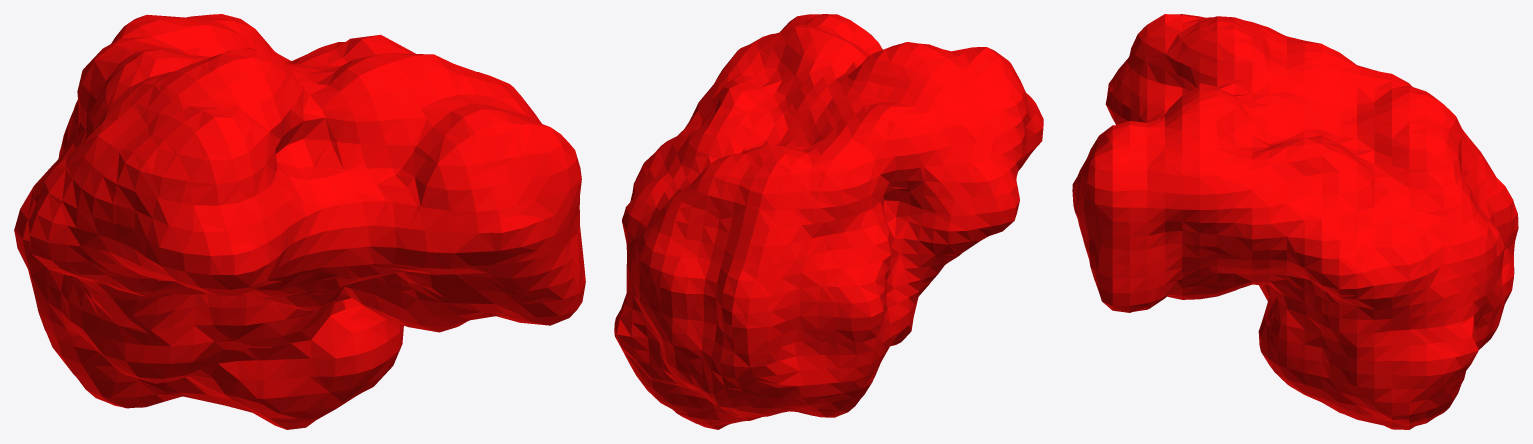
Rendered from fadH_coarse.dae.
3 renders of one model, left to right at view 1: azimuth 30°, elevation 25°; view 2: azimuth 150°, elevation 25°; view 3: azimuth 270°, elevation 25°, orthographic. The views are drawn at different scales.
Parts seen in each view (by area): view 1: fadH; view 2: fadH; view 3: fadH.
Part boxes in pixels (x1,y1,x2,y2): fadH: (14,14,585,429); fadH: (614,14,1043,429); fadH: (1072,14,1518,429).
Size of the model in its own units: 71.37 by 68.39 by 79.33.
